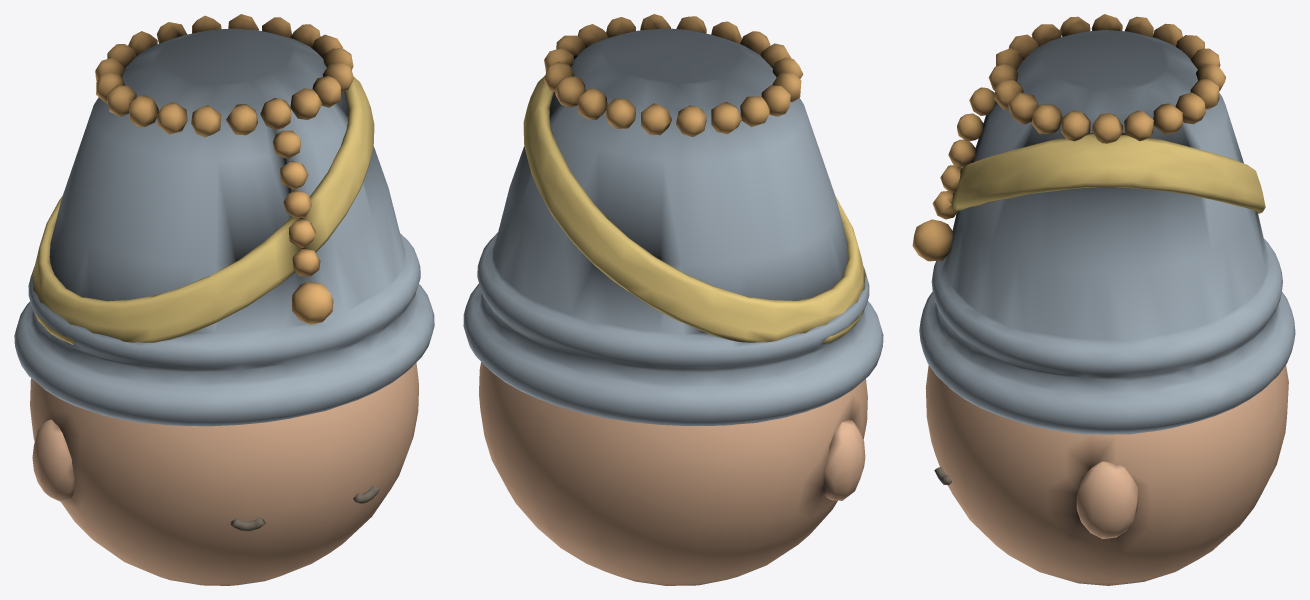
The model's file is monk.glb.
3 renders of one model, left to right at view 1: azimuth 30°, elevation 25°; view 2: azimuth 150°, elevation 25°; view 3: azimuth 270°, elevation 25°, orthographic.
Parts seen in each view (by area): view 1: robe, head, sash, beads, eyes; view 2: robe, head, sash, beads; view 3: robe, head, beads, sash.
Boxes of the visible parts, <box> form: robe: <box>14,28,434,426</box>; head: <box>30,362,418,585</box>; sash: <box>32,76,374,344</box>; beads: <box>95,14,353,324</box>; eyes: <box>230,485,379,531</box>; robe: <box>463,28,883,425</box>; head: <box>479,362,867,585</box>; sash: <box>523,75,865,343</box>; beads: <box>544,14,803,136</box>; robe: <box>919,30,1295,434</box>; head: <box>925,365,1288,585</box>; beads: <box>912,14,1225,261</box>; sash: <box>952,133,1265,213</box>.
Size of the model in its own units: 0.6005 by 0.7958 by 0.5379.
